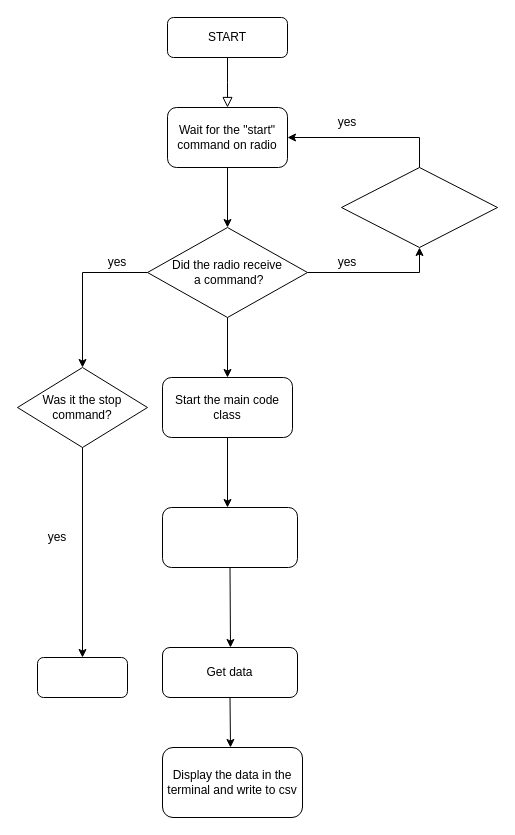
The diagram is 515 pixels wide and 835 high, and some of its shapes have lost their labels. The centre of each missing label's shape, as x and y in pixels:
"END" belongs at (x=82, y=677).
"Initialize all the sensors and modules for the cansat" belongs at (x=230, y=537).
"Was the command start?" belongs at (x=419, y=207).
